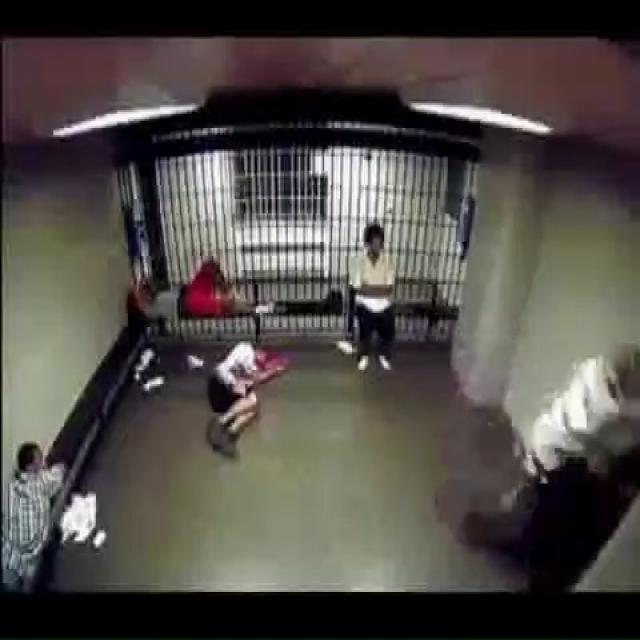fight: (485, 338, 640, 599)
